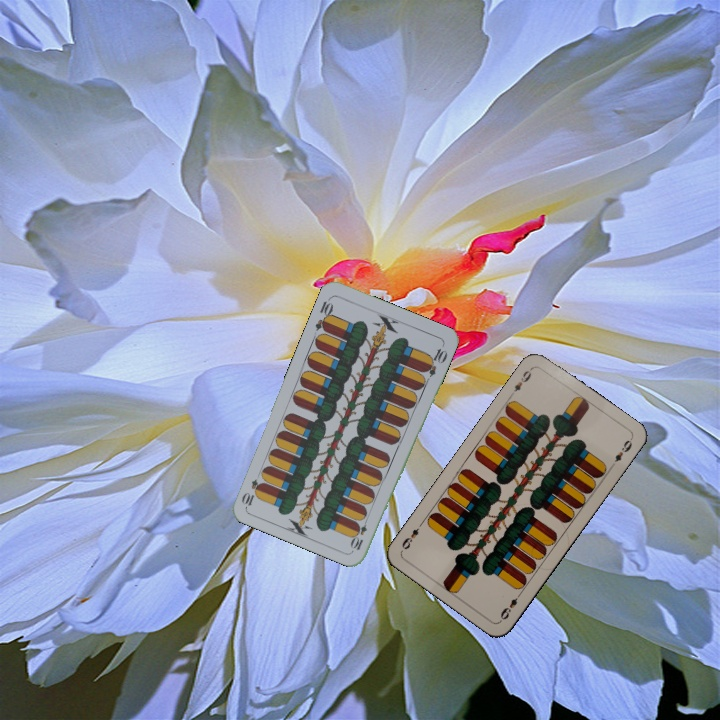E10: (311, 294, 336, 334), (348, 513, 371, 553)
E9: (496, 588, 525, 623), (506, 364, 535, 399)
